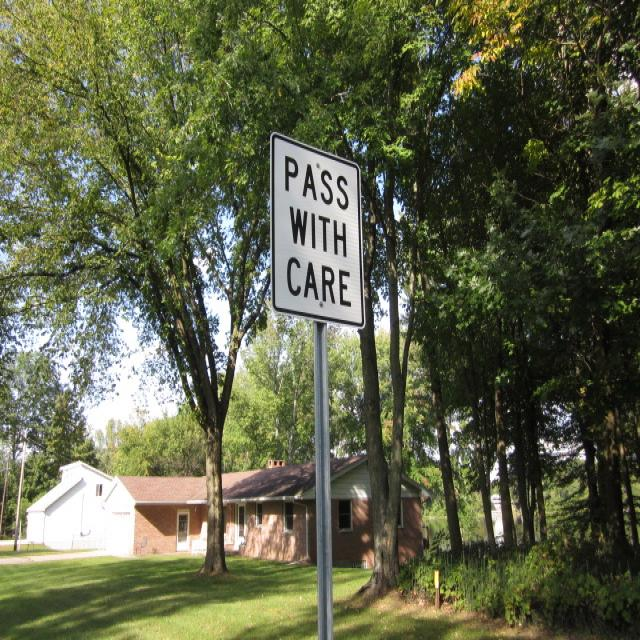regulatory: (268, 129, 366, 334)
